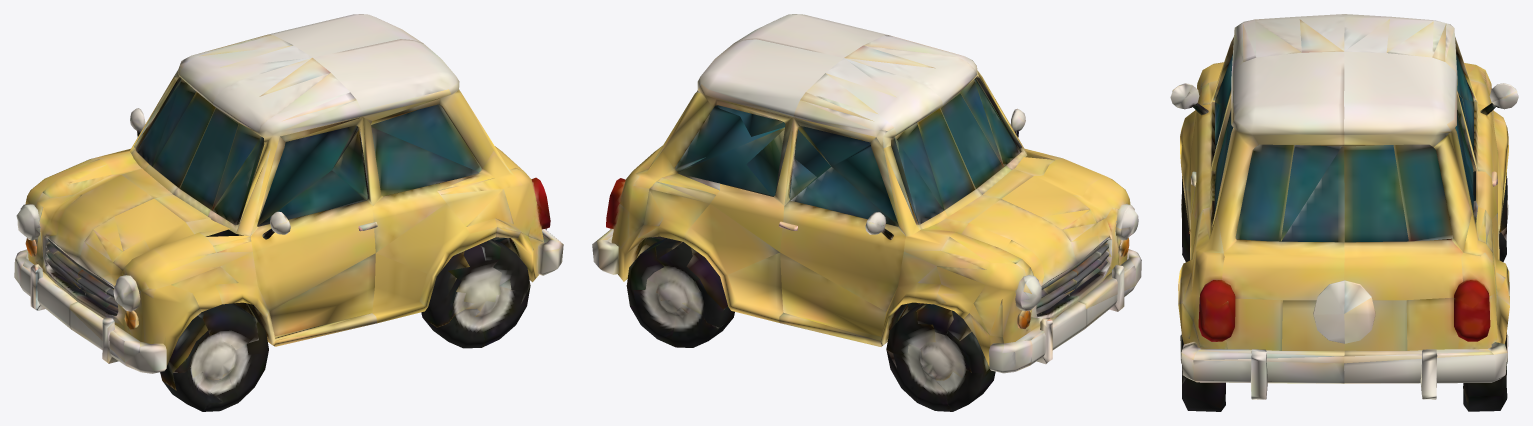
The model's file is car.glb.
The picture shows the model from 3 angles, left to right: view 1: azimuth 30°, elevation 25°; view 2: azimuth 150°, elevation 25°; view 3: azimuth 270°, elevation 25°; orthographic projection. The views are drawn at different scales.
Parts seen in each view (by area): view 1: Mesh_0; view 2: Mesh_0; view 3: Mesh_0.
Boxes of the visible parts, x1,y1,x2,y2 form: Mesh_0: (14, 14, 563, 411); Mesh_0: (592, 14, 1141, 411); Mesh_0: (1170, 14, 1518, 411).
Size of the model in its own units: 2.33 by 1.35 by 1.42.
1 material, 1 textured.
